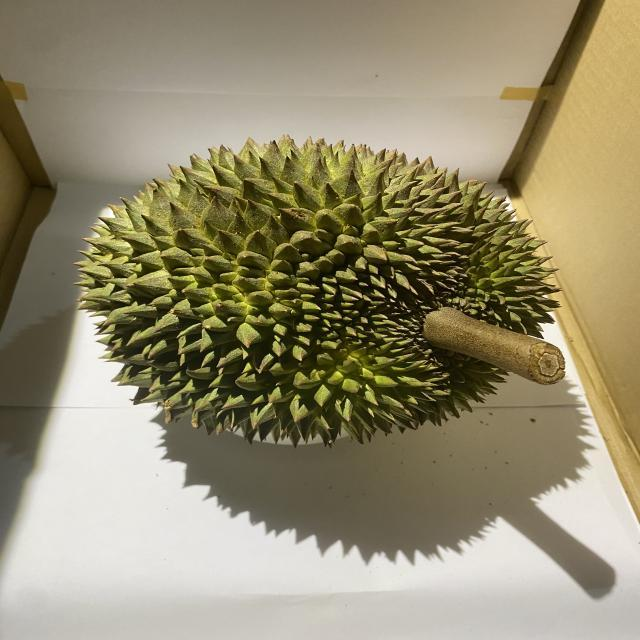immature: (74, 133, 564, 447)
